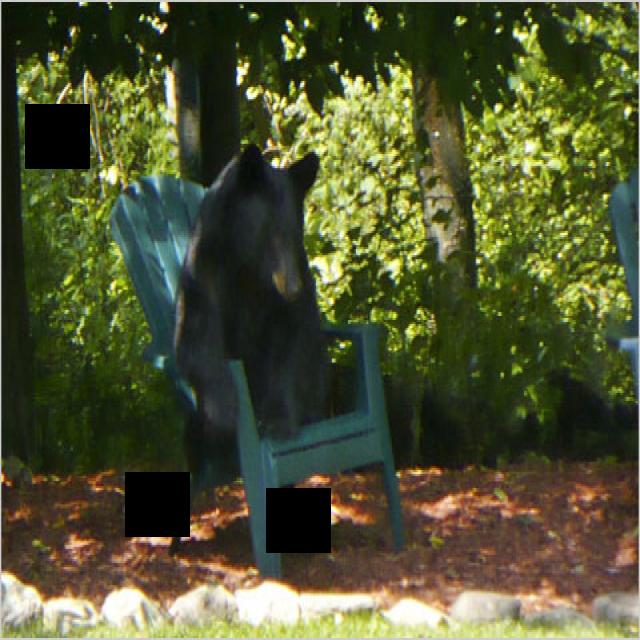Bear: (173, 128, 352, 511)
